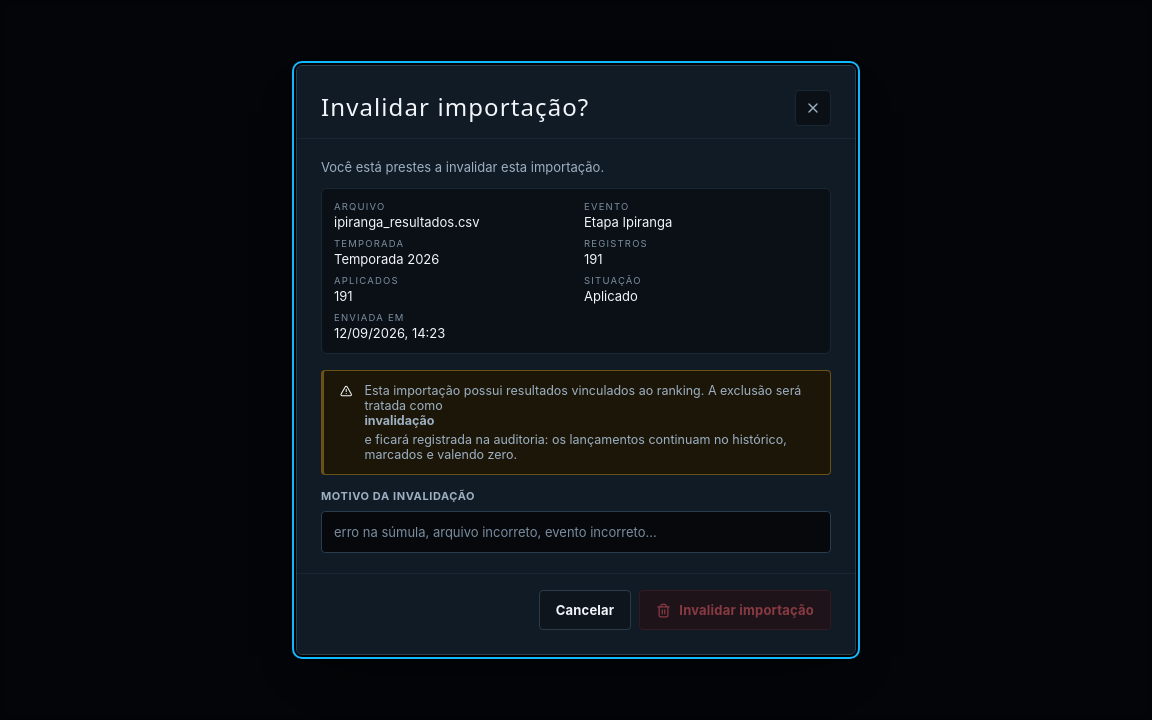
Test: o motivo é exigido onde ele é exigido › lote publicado: o botão só libera com motivo escrito
This screenshot has width=1152, height=720.
Expected: the button "Invalidar importação" is disabled, [639,590,831,630]
Type "erro na súmula" into the field.
click(576, 532); type("erro na súmula")  # box [321,511,831,553]
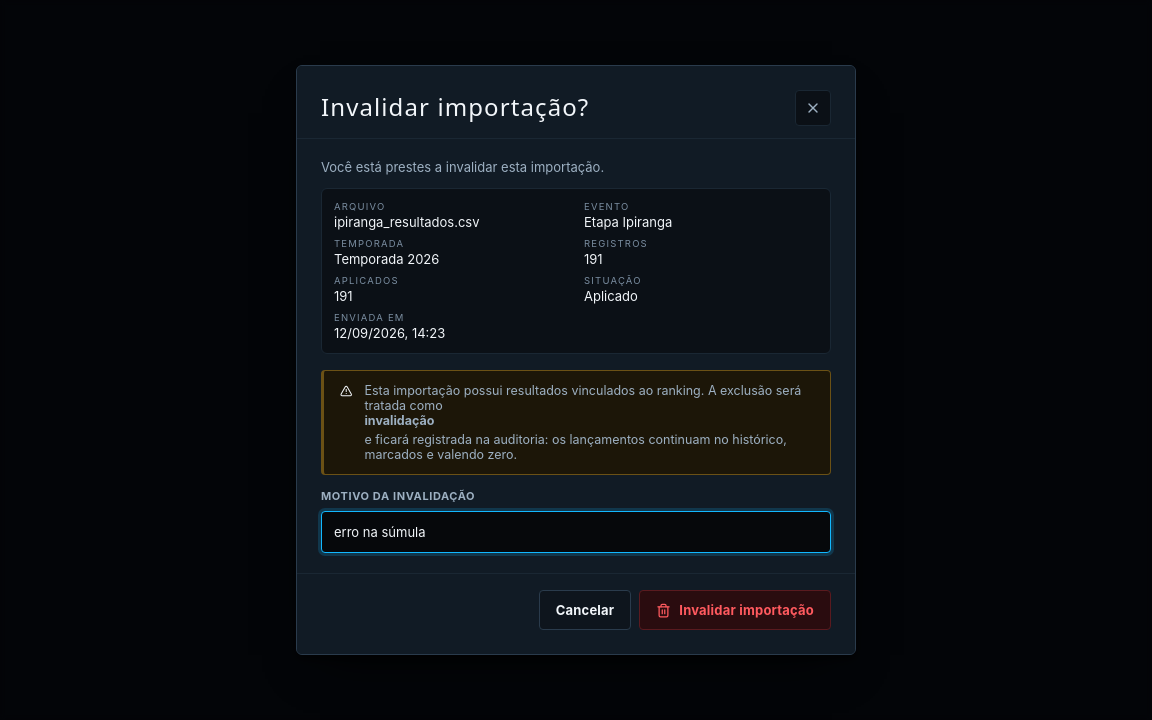
Expected: the button "Invalidar importação" is enabled, [639,590,831,630]
